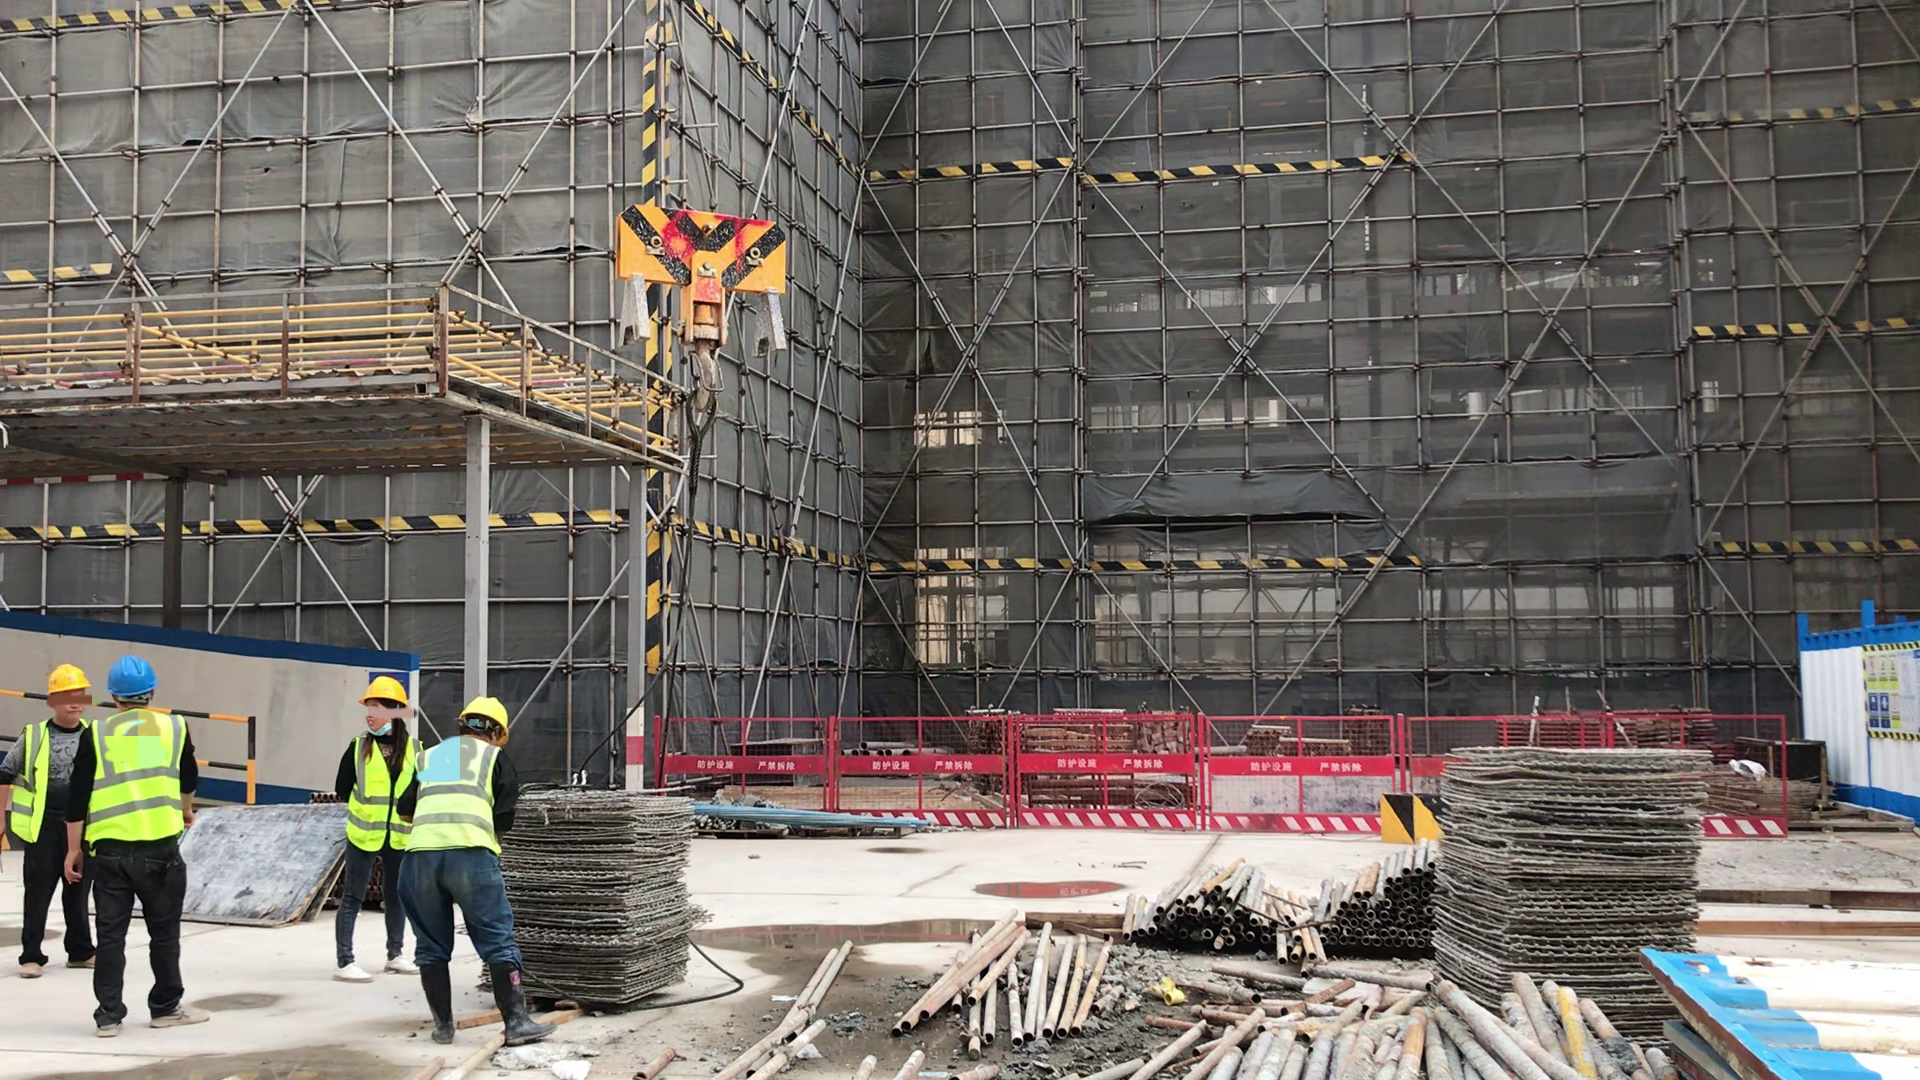fence: (656, 716, 1783, 835)
helmet: (456, 696, 509, 743), (108, 657, 157, 695), (359, 676, 409, 707), (48, 666, 90, 691)
hook: (615, 200, 786, 415)
person: (408, 695, 556, 1047), (65, 657, 203, 1033), (5, 668, 94, 974), (334, 674, 420, 982)
slogan: (1862, 644, 1914, 740)
vest: (89, 715, 186, 841), (415, 738, 496, 850), (347, 742, 413, 858), (16, 724, 52, 847)
